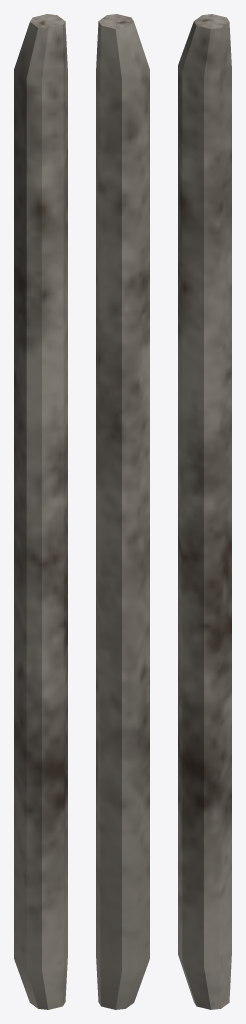
The model's file is BLD_Wall Stick.fbx.
3 renders of one model, left to right at view 1: azimuth 30°, elevation 25°; view 2: azimuth 150°, elevation 25°; view 3: azimuth 330°, elevation 25°, orthographic.
Visible parts, largest first — view 1: stick; view 2: stick; view 3: stick.
Boxes of the visible parts, x1,y1,x2,y2 form: stick: (14, 14, 67, 1009); stick: (96, 14, 149, 1009); stick: (178, 14, 231, 1009).
Bounding box in the file's own units: 48.54 × 1107 × 48.54.
Materials: 1 (1 with a texture image).
